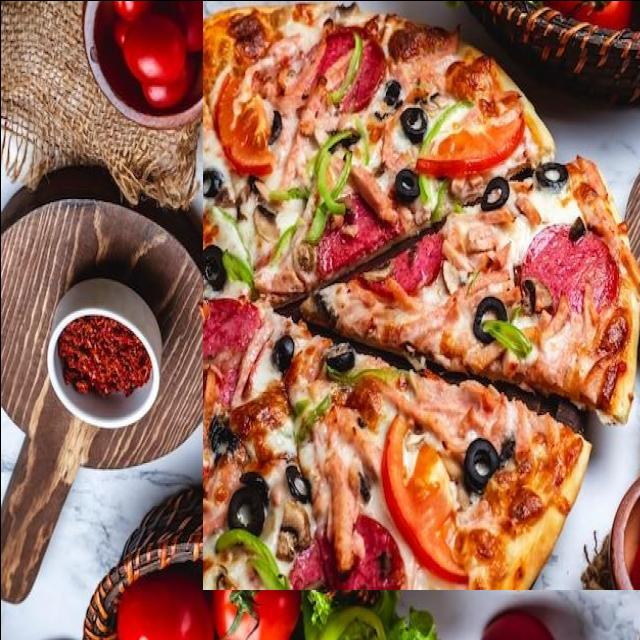olive: (573, 53, 615, 118), (344, 97, 379, 152), (335, 245, 370, 294), (603, 126, 634, 176), (615, 300, 640, 346), (333, 378, 362, 414), (531, 86, 558, 124), (415, 449, 443, 482), (274, 402, 307, 428), (422, 389, 448, 421), (549, 219, 570, 255), (488, 218, 518, 240), (619, 391, 640, 422), (328, 120, 345, 150), (442, 483, 460, 511), (472, 85, 486, 119), (257, 348, 275, 373), (562, 444, 574, 479), (579, 397, 595, 416)
pepperoni: (221, 268, 324, 366), (436, 0, 554, 74), (439, 312, 526, 398), (580, 184, 640, 293), (457, 475, 528, 564), (398, 290, 488, 358)
pizza: (202, 0, 640, 589)
